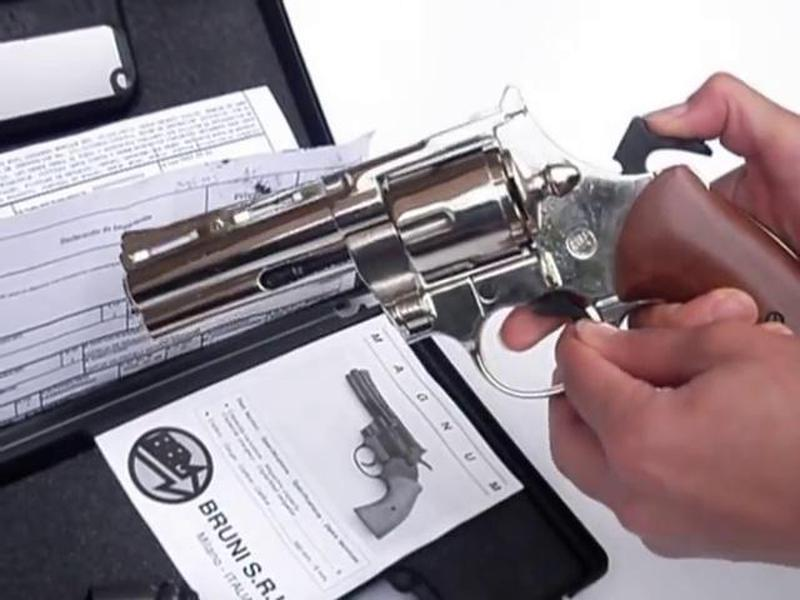Revolver: (97, 76, 709, 406)
